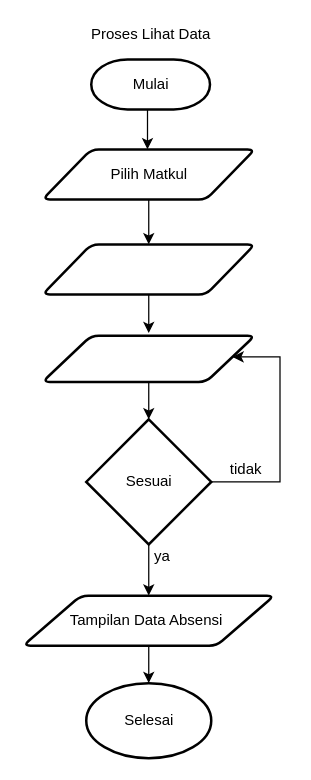
Image size: 311x780. Some labels were removed from this diagram. Here are the shapes that lost their labels. From the top down, the centre of each, then its label:
pixel 148 268: Data List Acara
pixel 148 358: Pilih list Acara
